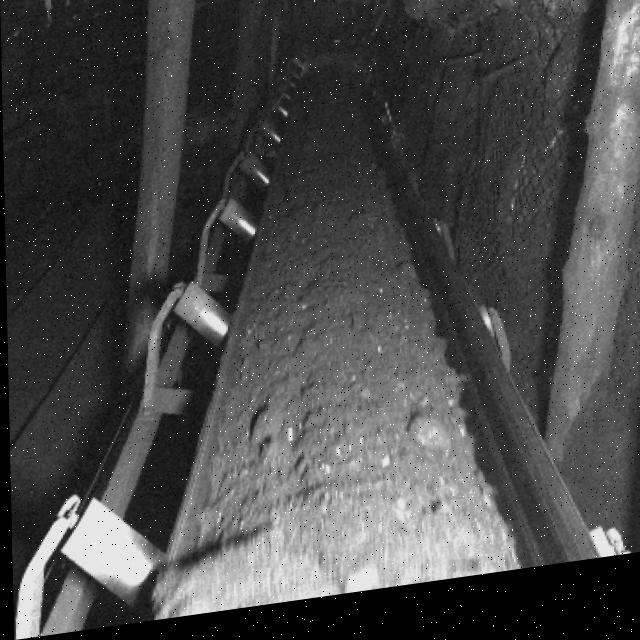large_sized_coal: (141, 529, 335, 625)
